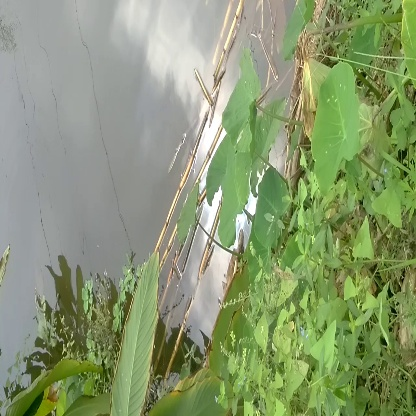branch: (156, 109, 200, 254)
leaf: (109, 253, 160, 408)
